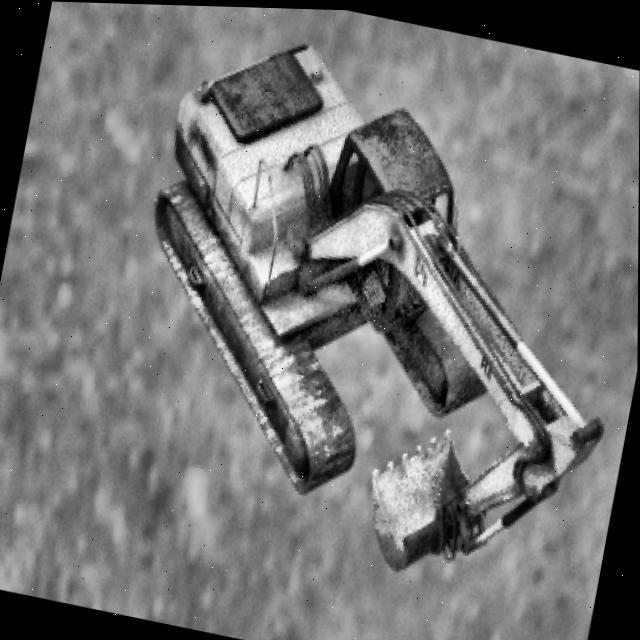excavator: (97, 14, 640, 605)
